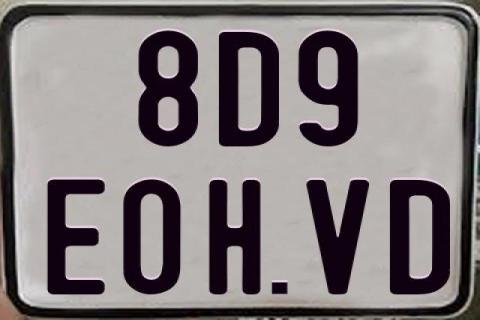0: (135, 30, 201, 146), (298, 30, 363, 146), (120, 180, 180, 298)
D: (219, 31, 285, 148), (389, 179, 449, 297)
E: (45, 177, 104, 295)
H: (209, 180, 264, 295)
V: (305, 180, 370, 298)
